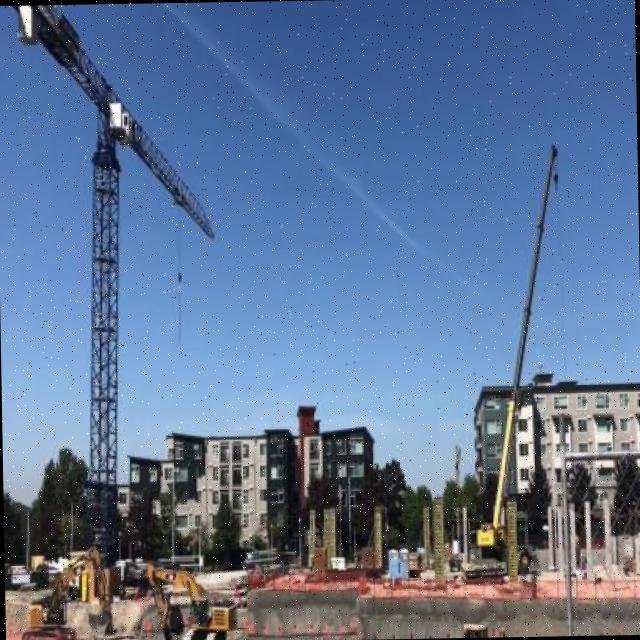Excavator: (20, 544, 111, 640), (145, 562, 234, 640)
Mobile Crane: (468, 142, 567, 574)
